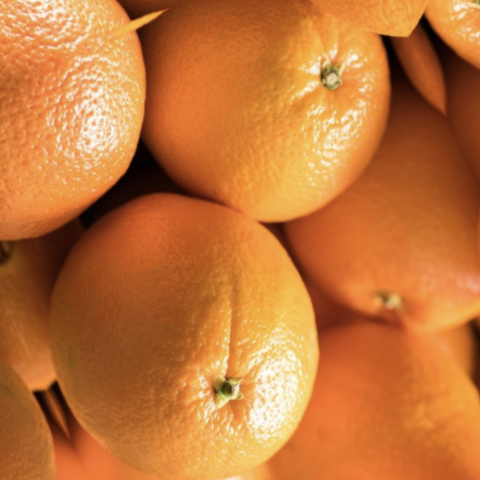orange: (0, 132, 392, 480), (86, 0, 465, 296)
